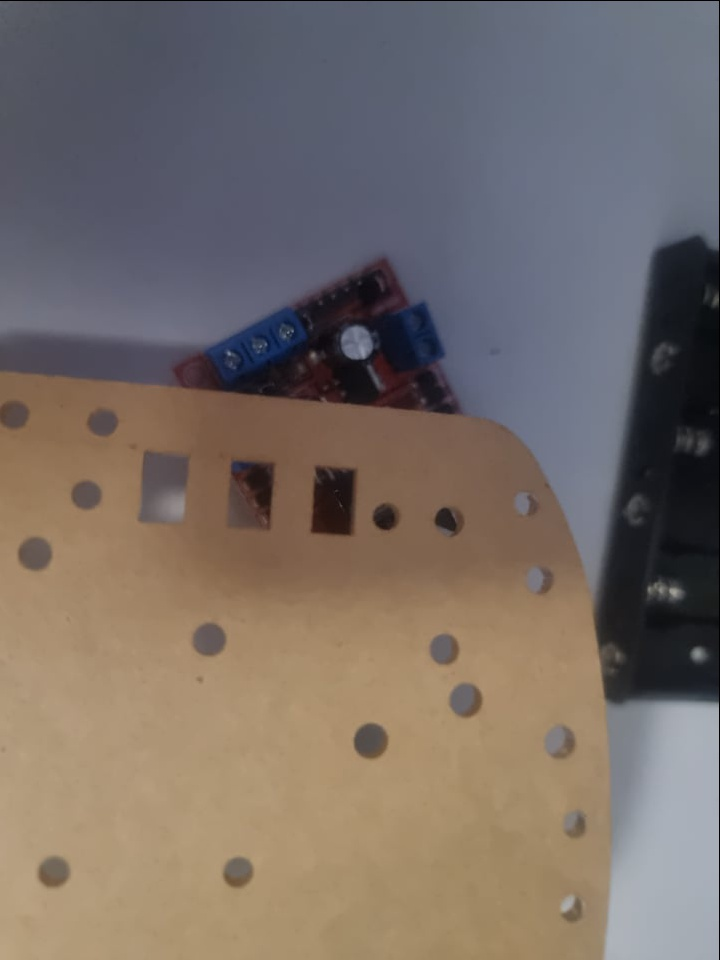BATTERY BOX: (590, 229, 720, 722)
MOTOR: (158, 252, 469, 522)
